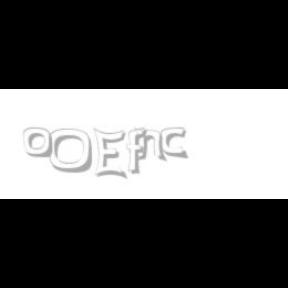E: (93, 128, 126, 180)
O: (48, 128, 94, 174)
c: (160, 128, 189, 160)
f: (126, 128, 150, 174)
n: (134, 128, 168, 162)
o: (24, 128, 53, 158)
